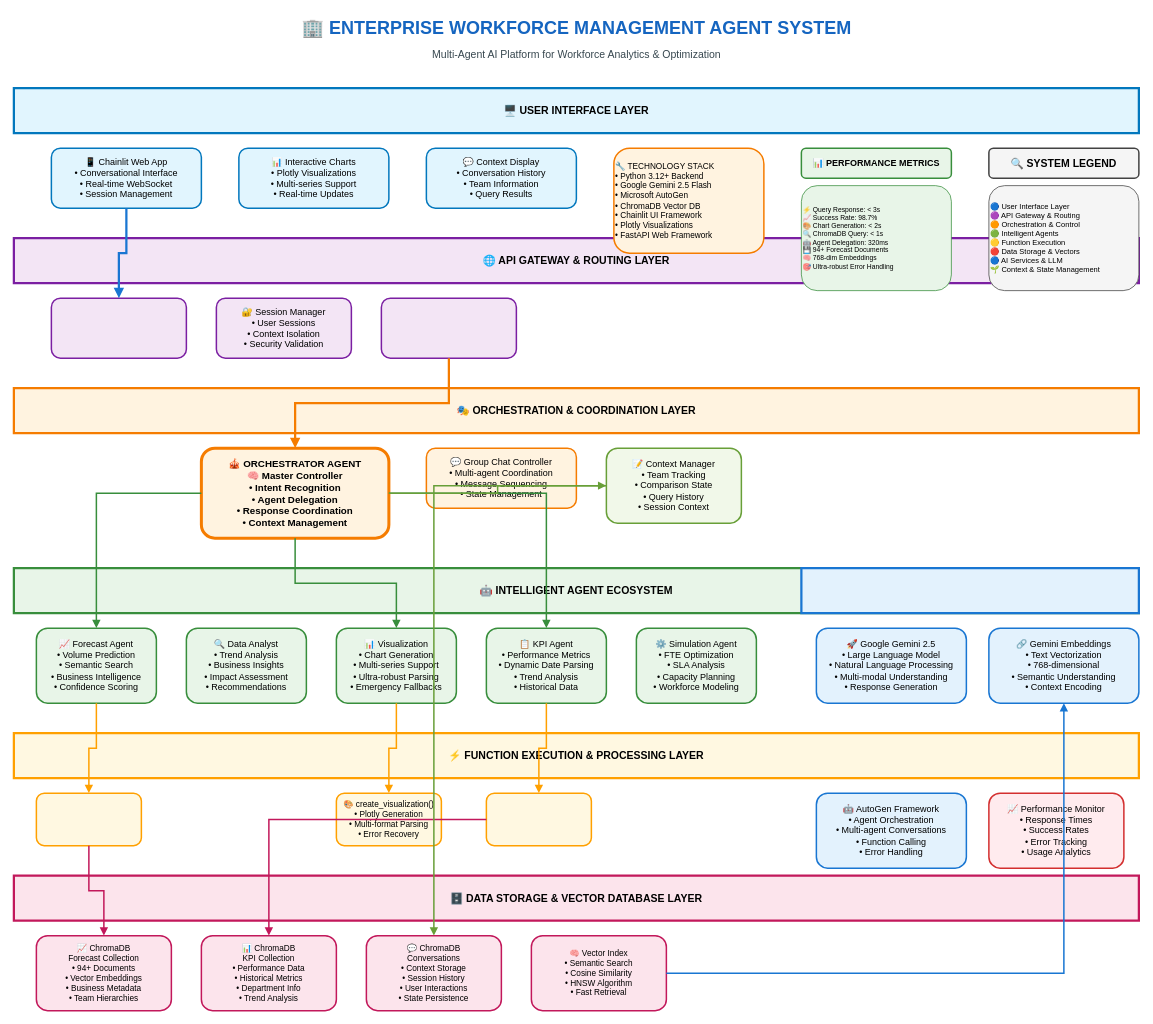
This 1153x1024 diagram has some shape labels left out. The centre of each missing label's shape, as x and y in pixels:
⚡ FastAPI Gateway • WebSocket Handlers • Request Validation • Error Handling: point (118, 327)
🎯 Message Router • Intent Detection • Agent Selection • Response Routing: point (448, 327)
📊 fetch_kpi() • Semantic Search • Date Parsing • Confidence Scoring: point (538, 819)
🔄 fetch_forecast() • ChromaDB Query • Embedding Search • Metadata Filtering: point (88, 819)
🧠 AI SERVICES & EXTERNAL INTEGRATIONS: point (970, 590)
